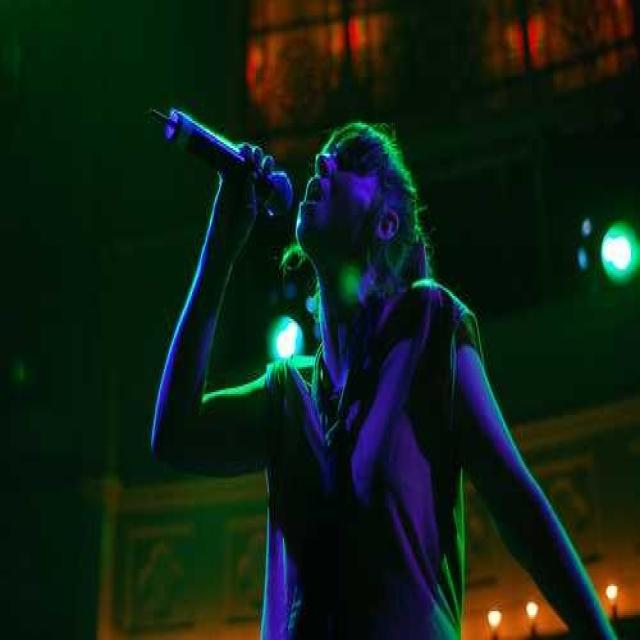microphone: (164, 99, 300, 226)
